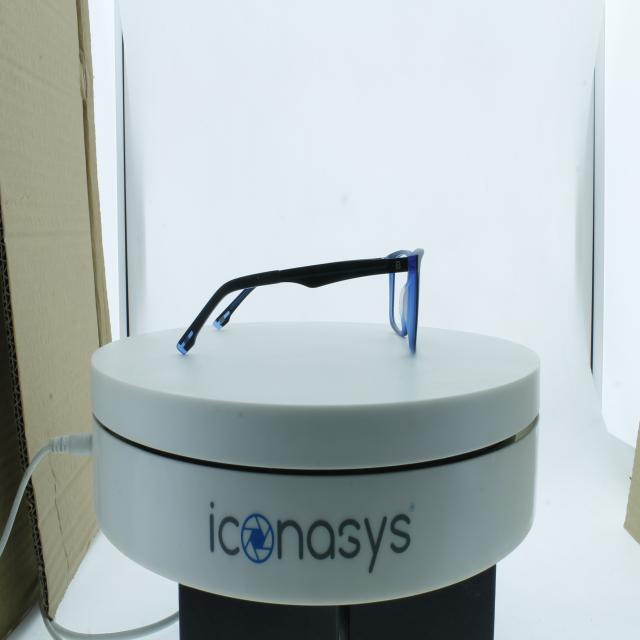Specs: (151, 204, 451, 380)
